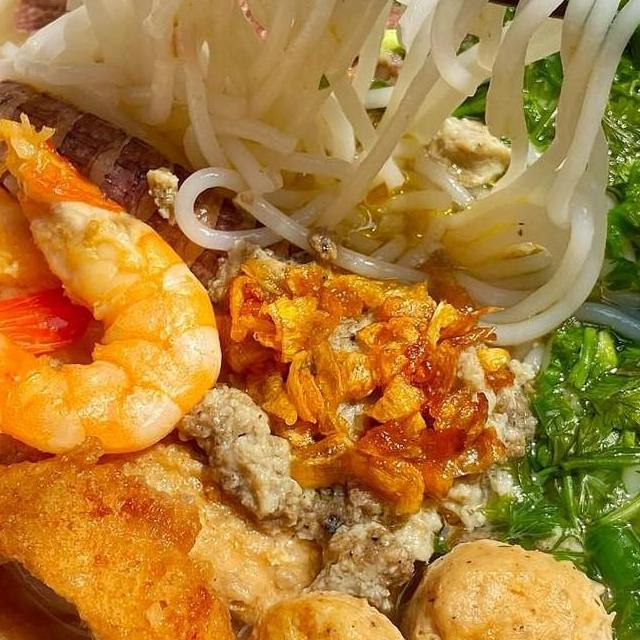bun: (0, 0, 640, 376)
bun hai san: (0, 0, 640, 640)
ca: (0, 429, 245, 640), (0, 399, 140, 640)
thit bam: (162, 288, 548, 624)
tom: (0, 103, 223, 465), (0, 159, 115, 391)
tom tit: (0, 73, 315, 294)
